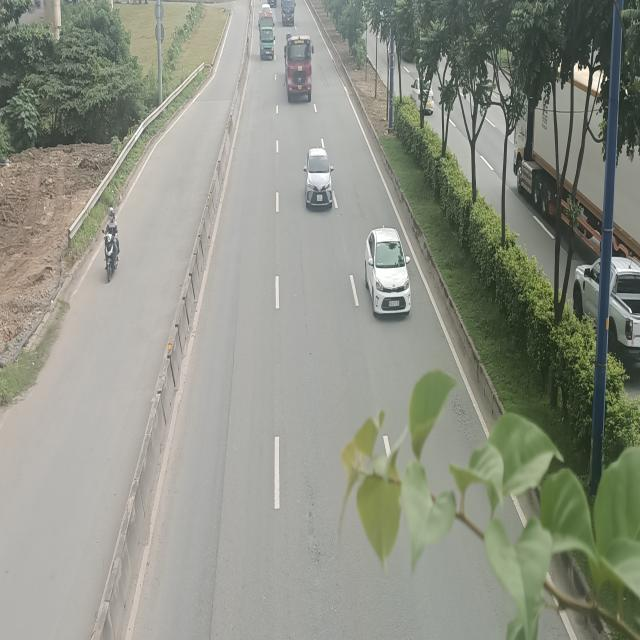car: (363, 230, 409, 320), (304, 148, 334, 210)
container: (284, 32, 313, 99)
truck: (259, 12, 276, 64)
